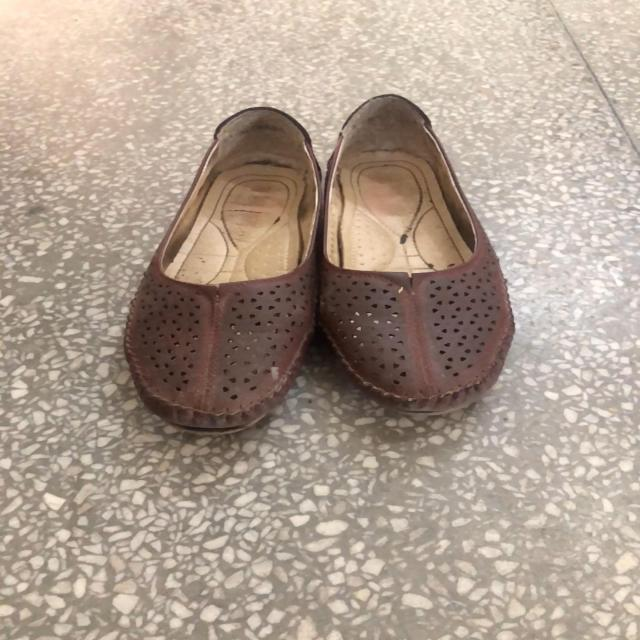shoe: (116, 103, 314, 432), (328, 89, 519, 413)
